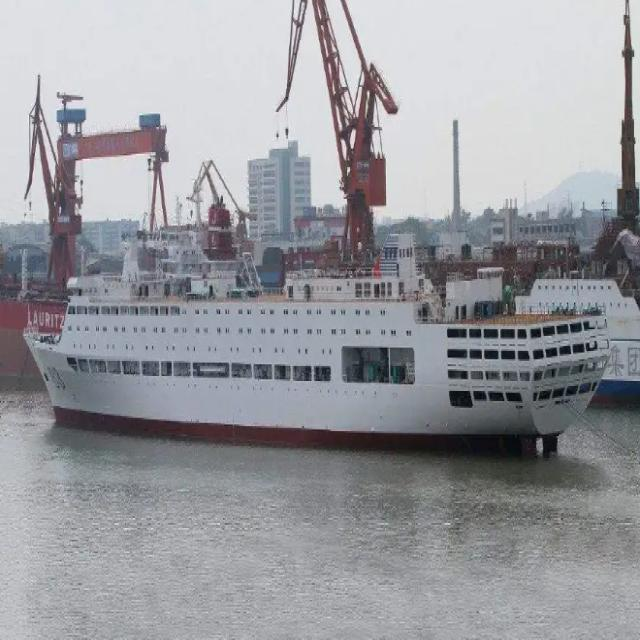passenger ship: (23, 219, 615, 450)
